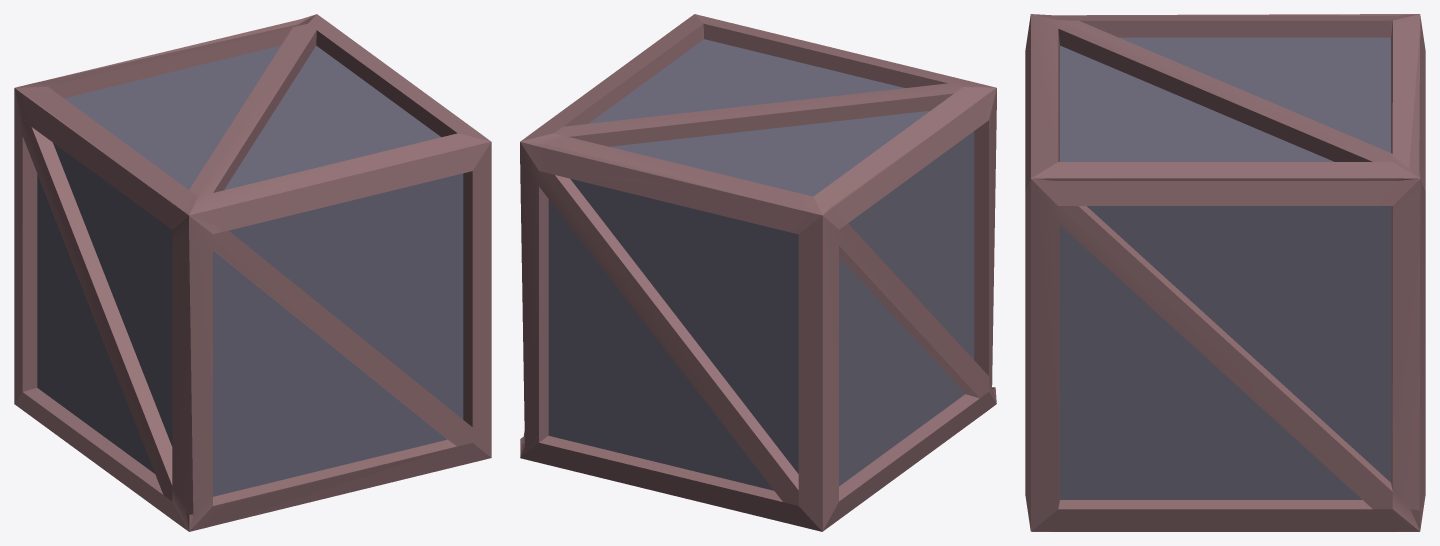
The picture shows the model from 3 angles, left to right: view 1: azimuth 30°, elevation 25°; view 2: azimuth 150°, elevation 25°; view 3: azimuth 270°, elevation 25°; orthographic projection. The views are drawn at different scales.
Visible parts, largest first — view 1: pCube7; view 2: pCube7; view 3: pCube7.
Part boxes in pixels (x1,y1,x2,y2): pCube7: (14, 14, 491, 531); pCube7: (520, 14, 996, 531); pCube7: (1025, 14, 1425, 531).
Bounding box in the file's own units: 1.65 × 1.65 × 1.65.
